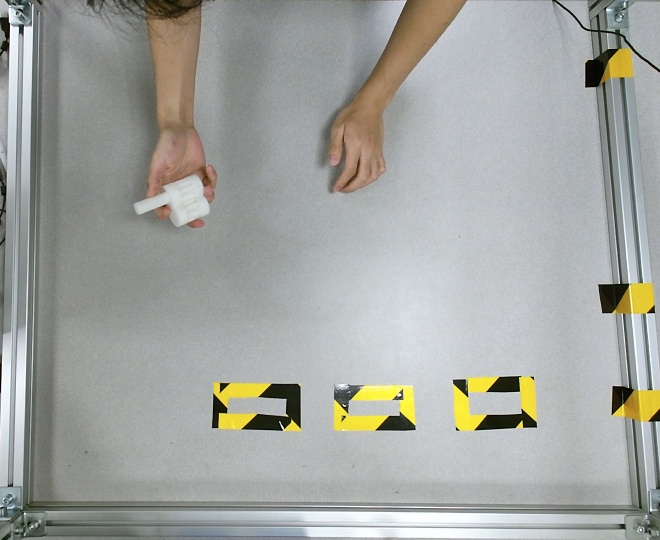stage_4: (133, 174, 211, 227)
